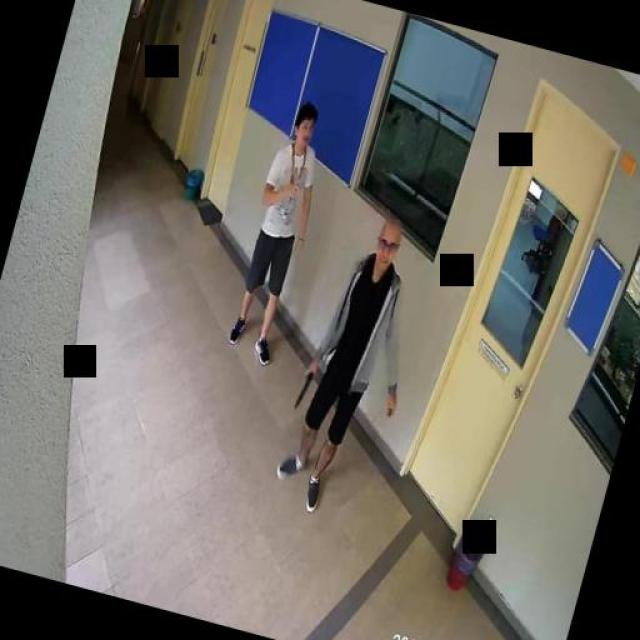gun: (292, 365, 314, 409)
